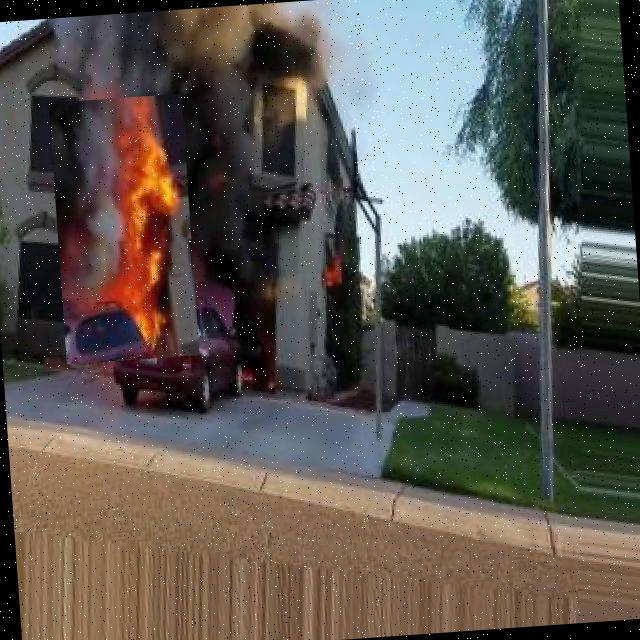fire: (48, 93, 199, 364)
